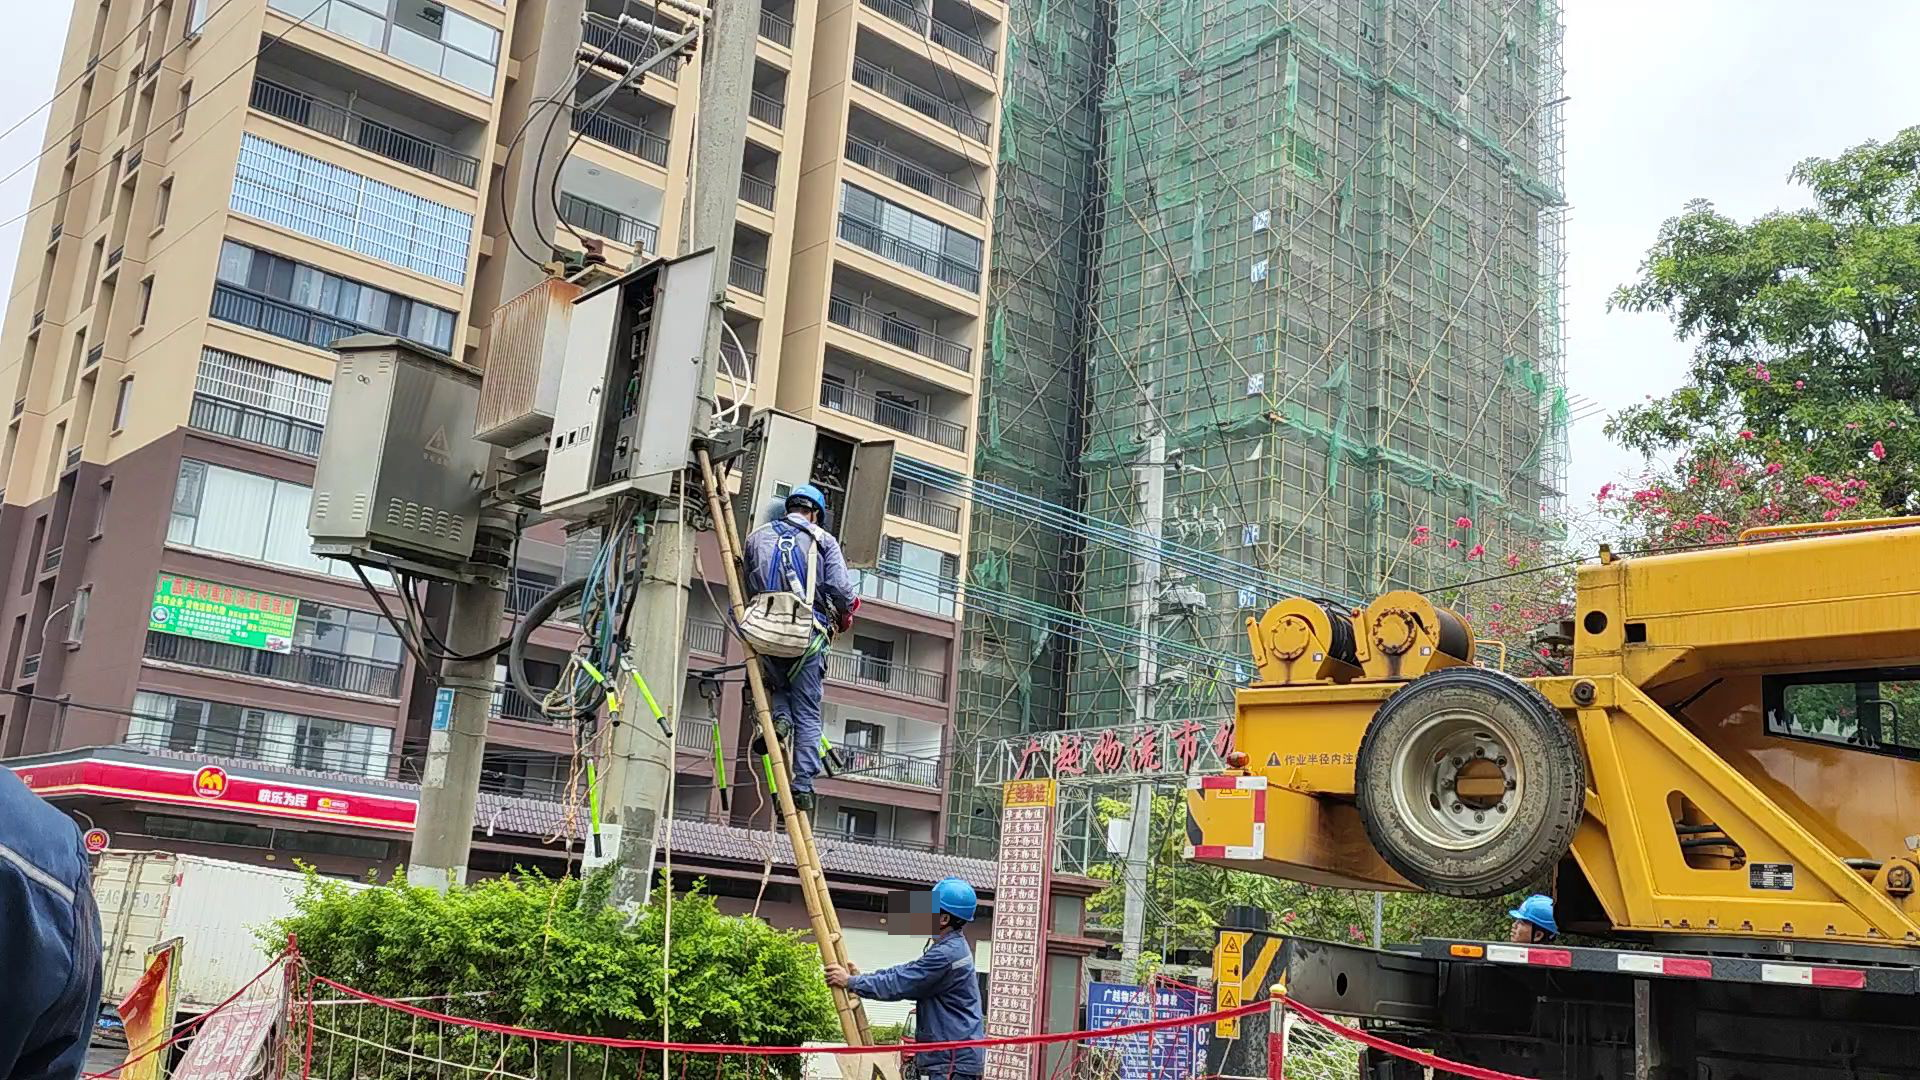downsuit: (759, 655, 830, 792)
halt: (922, 878, 980, 928), (1511, 892, 1556, 936), (782, 484, 830, 523)
hand: (825, 962, 856, 993)
inear: (934, 910, 954, 944)
person: (732, 481, 859, 800), (1, 725, 108, 1080), (840, 876, 992, 1079)
safebelt: (683, 511, 844, 689)
support: (825, 873, 994, 1080)
upsuit: (1, 726, 104, 1080), (852, 932, 990, 1065), (737, 516, 855, 636)
